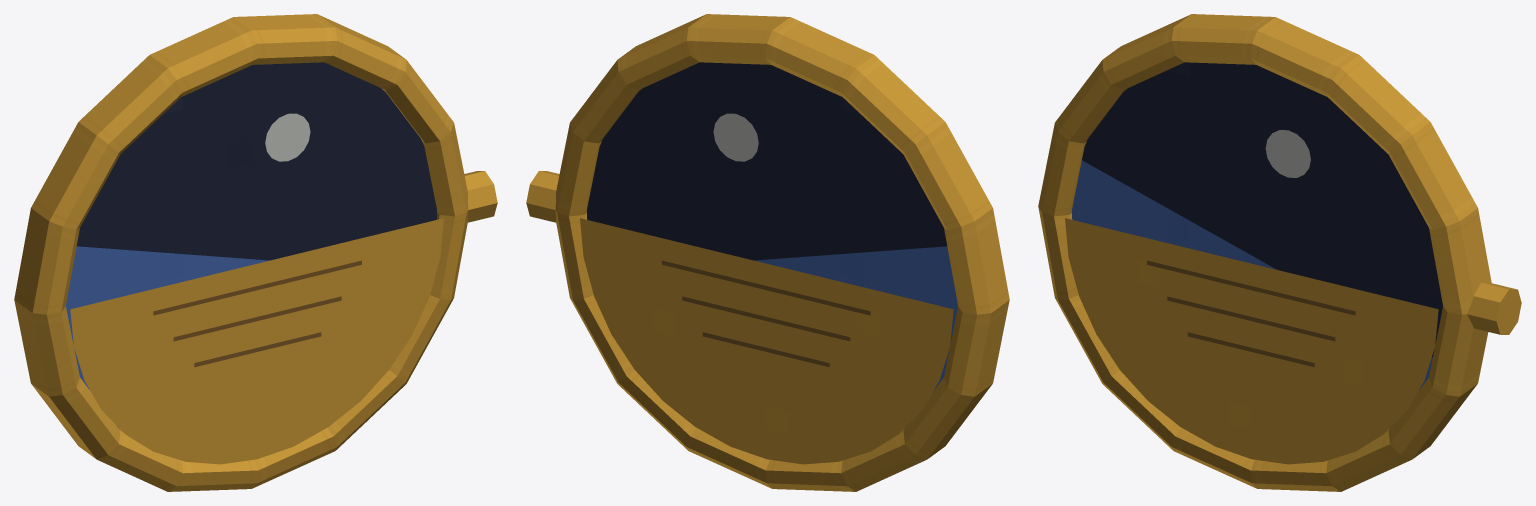
The model's file is clock_35.obj.
3 renders of one model, left to right at view 1: azimuth 30°, elevation 25°; view 2: azimuth 150°, elevation 25°; view 3: azimuth 330°, elevation 25°, orthographic.
Bounding box in the file's own units: 0.6363 × 0.6037 × 0.075.
